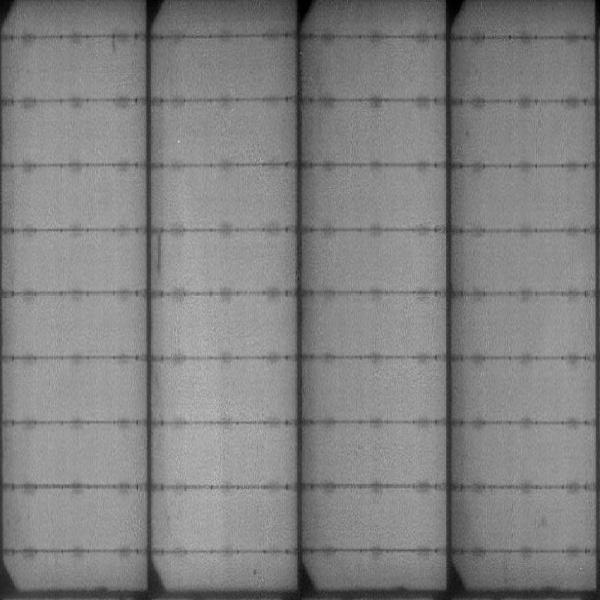scratch: (155, 229, 164, 276)
